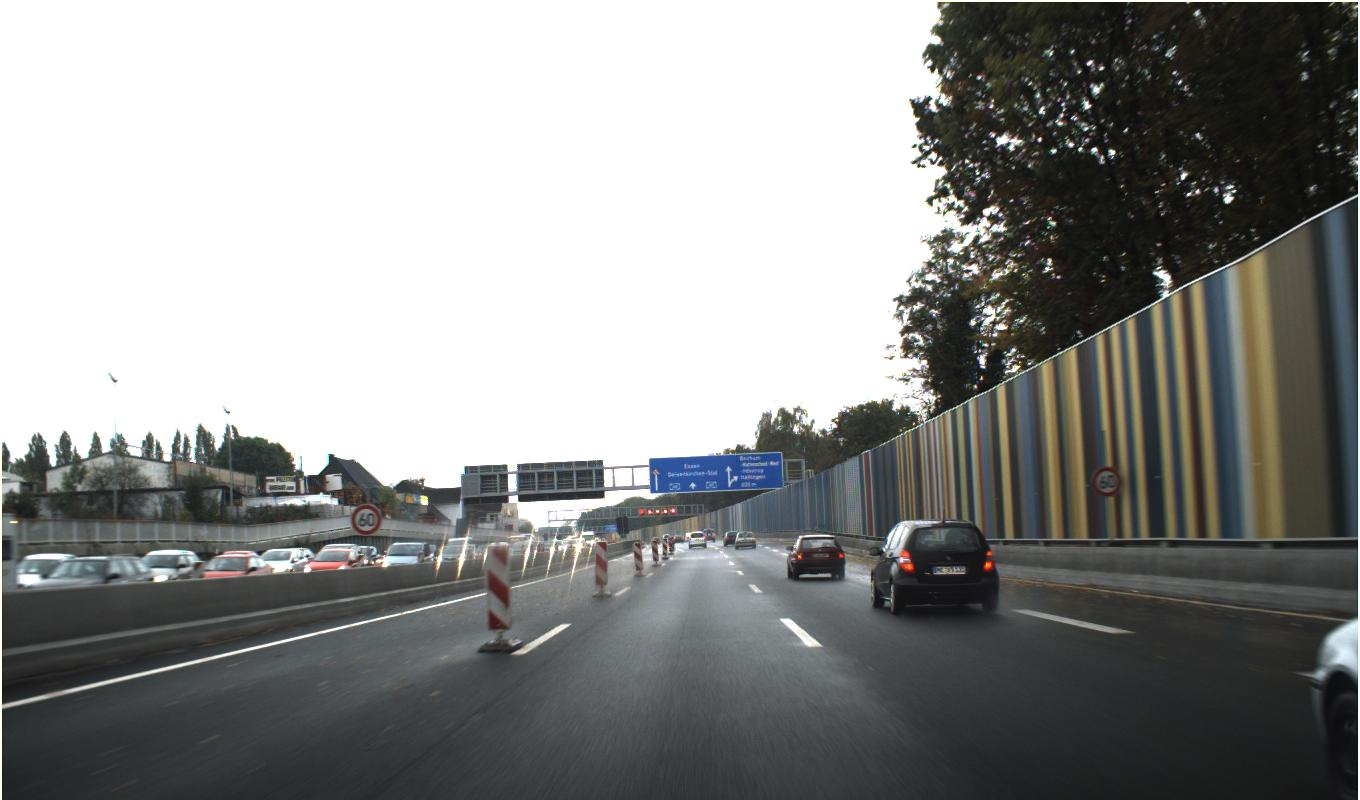prohibitory: (1091, 465, 1123, 497), (350, 503, 382, 535)
